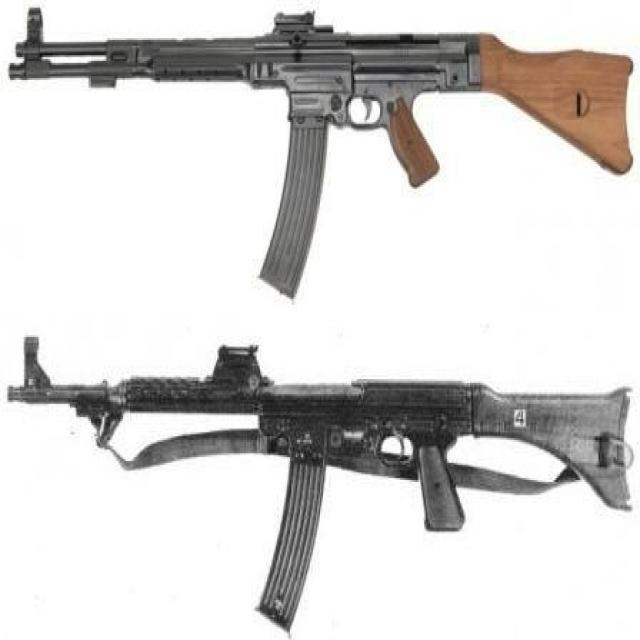ak: (6, 13, 637, 306)
